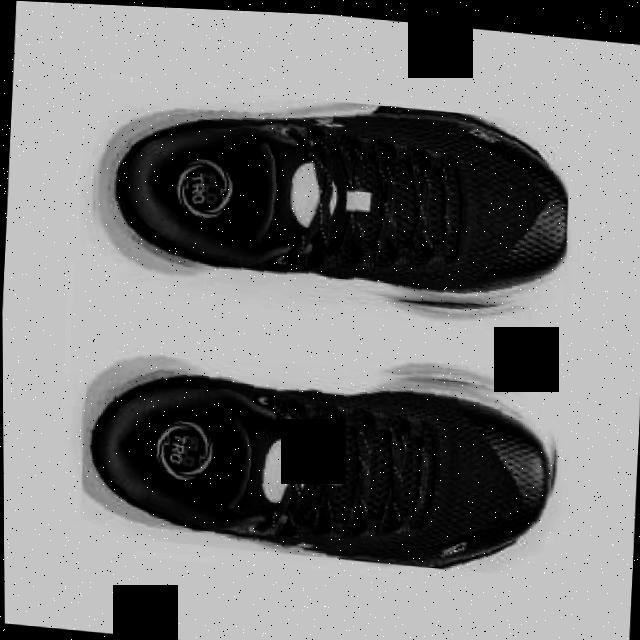shoe: (85, 76, 573, 324), (77, 329, 563, 575)
